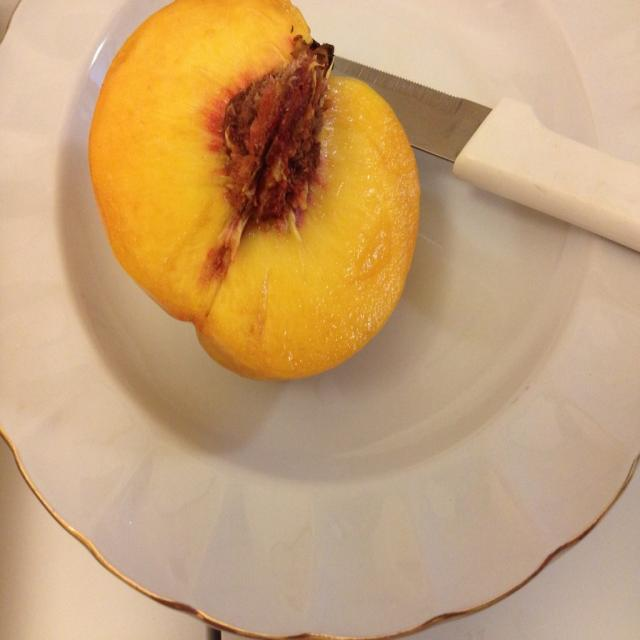Peach: (89, 0, 422, 385)
